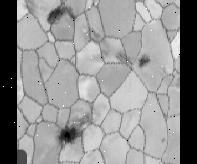good_void: (56, 106, 91, 146), (47, 1, 75, 26), (115, 50, 134, 73), (134, 52, 153, 68), (159, 135, 167, 143)
